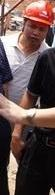hard-hat: (0, 0, 12, 9)
